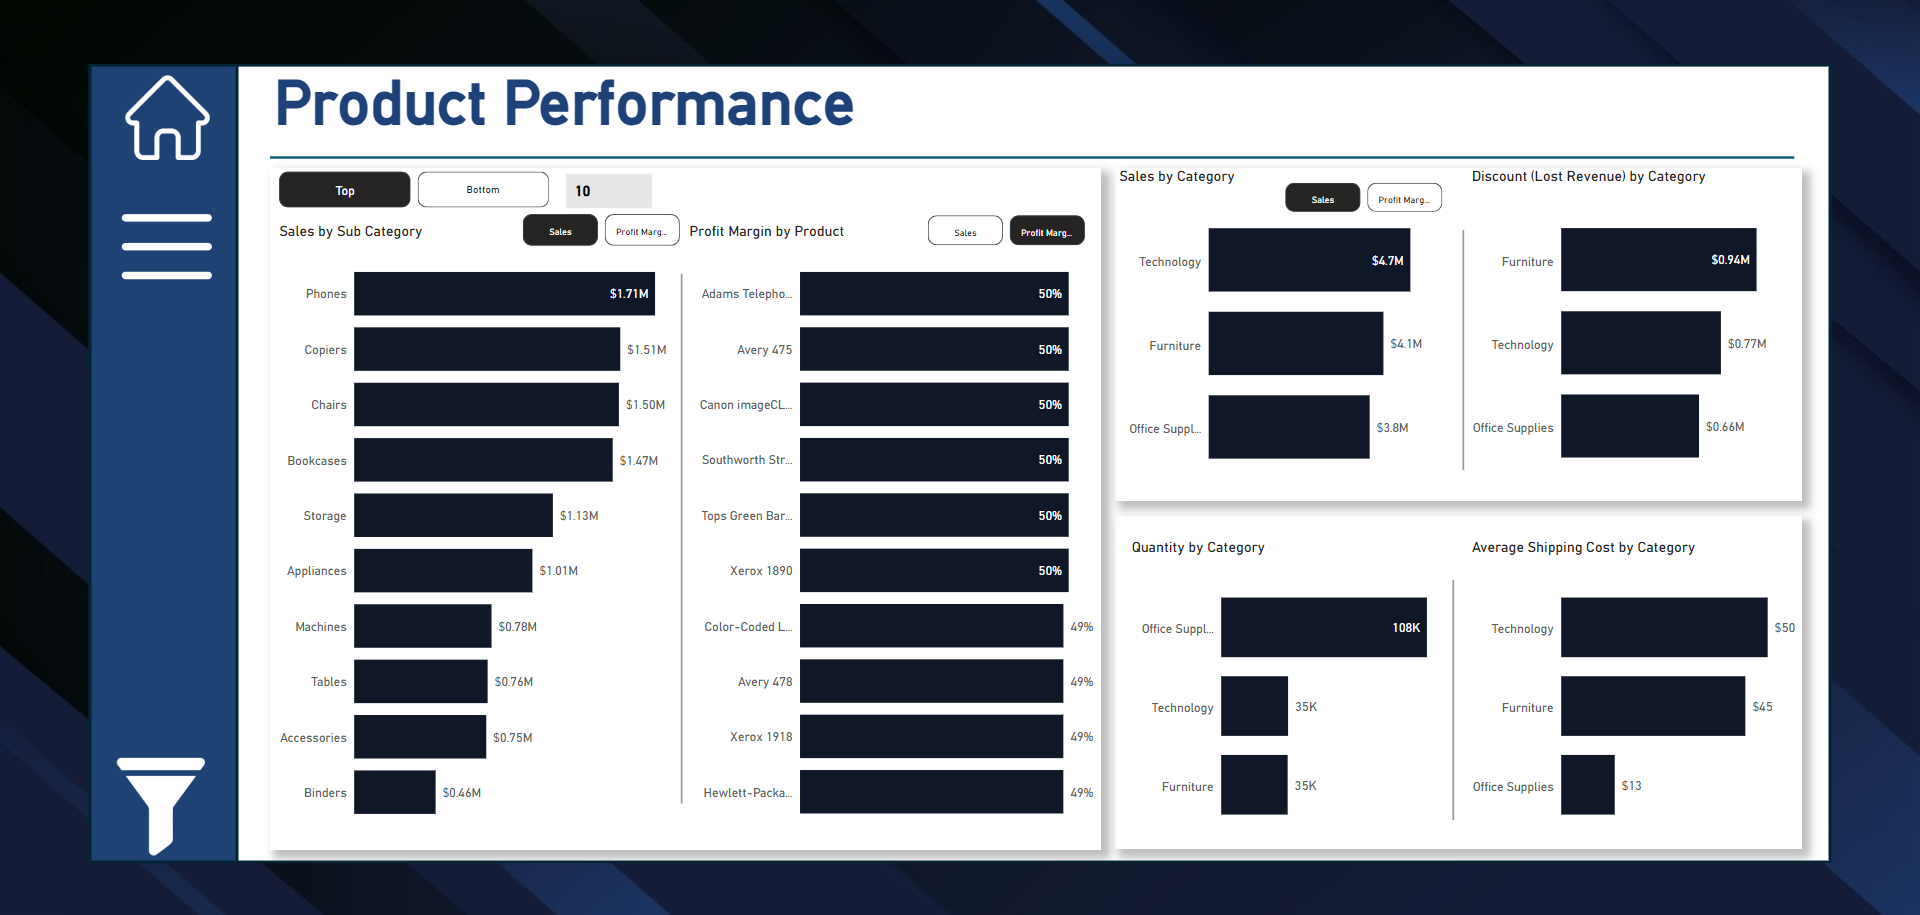

The page's visual inventory and layout, read from the dashboard file:
{"tool":"powerbi","page":{"name":"Product","canvas":[2250,1080],"ordinal":2},"visuals":[{"type":"shape","box":[1306.2,605.5,804.5,390.3],"z":0},{"type":"shape","box":[1306.2,196.2,804.5,390.3],"z":1000},{"type":"shape","box":[316.1,196.3,974.8,799.6],"z":2000},{"type":"clusteredBarChart","fields":{"Y":["_Measures.Product Rank by Profit Margin"],"Category":["product.Product"]},"box":[803.2,261.1,487.4,724.7],"z":3000},{"type":"barChart","fields":{"Y":["_Measures.Sub Category Rank by Sales"],"Category":["product.Sub Category"]},"box":[322.8,260.1,487.4,725.2],"z":4000},{"type":"clusteredBarChart","fields":{"Y":["_Measures.Sales"],"Category":["product.Product Hierarchy.Category","product.Product Hierarchy.Sub Category","product.Product Hierarchy.Product"]},"box":[1306.4,196.5,389.9,389.6],"z":5000},{"type":"advancedSlicerVisual","fields":{"Values":["Metrics.Metrics"]},"box":[1501.4,209.2,195,44.9],"z":6000},{"type":"barChart","fields":{"Category":["product.Product Hierarchy.Category","product.Product Hierarchy.Sub Category","product.Product Hierarchy.Product"],"Y":["_Measures.Discount (Lost Revenue)"]},"box":[1719.8,196.2,390.9,388.2],"z":7000},{"type":"clusteredBarChart","title":"Average Shipping Cost by Category","fields":{"Category":["product.Product Hierarchy.Category","product.Product Hierarchy.Sub Category","product.Product Hierarchy.Product"],"Y":["_Measures.Avg Shipping Cost"]},"box":[1719.8,630.8,390.9,369.2],"z":8000},{"type":"textbox","box":[316.1,73.2,751.8,101.8],"z":9000},{"type":"advancedSlicerVisual","fields":{"Values":["TopBottom.Value"]},"box":[322.7,196.4,326.8,52.9],"z":10000},{"type":"slicer","fields":{"Values":["Top N.Top N"]},"box":[649.8,193.1,118.8,76.1],"z":11000},{"type":"clusteredBarChart","fields":{"Category":["product.Product Hierarchy.Category","product.Product Hierarchy.Sub Category","product.Product Hierarchy.Product"],"Y":["_Measures.Quantity"]},"box":[1320.6,630.8,388.9,369.2],"z":12000},{"type":"advancedSlicerVisual","fields":{"Values":["Product Parameter.Product Parameter"]},"box":[1081.9,247,195,45.9],"z":13000},{"type":"advancedSlicerVisual","fields":{"Values":["Sub Category Parameter.Sub Category Parameter"]},"box":[608.3,245.8,195,47],"z":14000},{"type":"shape","box":[786.1,321.3,24.4,621.1],"z":15000},{"type":"shape","box":[1683.9,679,37.1,281.4],"z":16000},{"type":"shape","box":[1696.6,269.4,37.1,281.4],"z":17000},{"type":"image","box":[74.2,246.6,242.2,115.6],"z":18000},{"type":"image","box":[76.4,883.7,224.7,124.4],"z":19000},{"type":"image","box":[76.4,82.9,240,109.1],"z":20000}]}

Visuals, with their boxes in screenshot pixels (x1, y1, x2, y2), scaled from the page's 2250x1080 canvas onto the 1920x915 screenshot:
shape: [x1=1115, y1=513, x2=1801, y2=844]
shape: [x1=1115, y1=166, x2=1801, y2=497]
shape: [x1=270, y1=166, x2=1102, y2=844]
clusteredBarChart - _Measures.Product Rank by Profit Margin x product.Product: [x1=685, y1=221, x2=1101, y2=835]
barChart - _Measures.Sub Category Rank by Sales x product.Sub Category: [x1=275, y1=220, x2=691, y2=835]
clusteredBarChart - _Measures.Sales x product.Product Hierarchy.Category: [x1=1115, y1=166, x2=1448, y2=497]
advancedSlicerVisual - Metrics.Metrics: [x1=1281, y1=177, x2=1448, y2=215]
barChart - product.Product Hierarchy.Category x product.Product Hierarchy.Sub Category: [x1=1468, y1=166, x2=1801, y2=495]
"Average Shipping Cost by Category" clusteredBarChart: [x1=1468, y1=534, x2=1801, y2=847]
textbox: [x1=270, y1=62, x2=911, y2=148]
advancedSlicerVisual - TopBottom.Value: [x1=275, y1=166, x2=554, y2=211]
slicer - Top N.Top N: [x1=554, y1=164, x2=656, y2=228]
clusteredBarChart - product.Product Hierarchy.Category x product.Product Hierarchy.Sub Category: [x1=1127, y1=534, x2=1459, y2=847]
advancedSlicerVisual - Product Parameter.Product Parameter: [x1=923, y1=209, x2=1090, y2=248]
advancedSlicerVisual - Sub Category Parameter.Sub Category Parameter: [x1=519, y1=208, x2=685, y2=248]
shape: [x1=671, y1=272, x2=692, y2=798]
shape: [x1=1437, y1=575, x2=1469, y2=814]
shape: [x1=1448, y1=228, x2=1479, y2=467]
image: [x1=63, y1=209, x2=270, y2=307]
image: [x1=65, y1=749, x2=257, y2=854]
image: [x1=65, y1=70, x2=270, y2=163]
